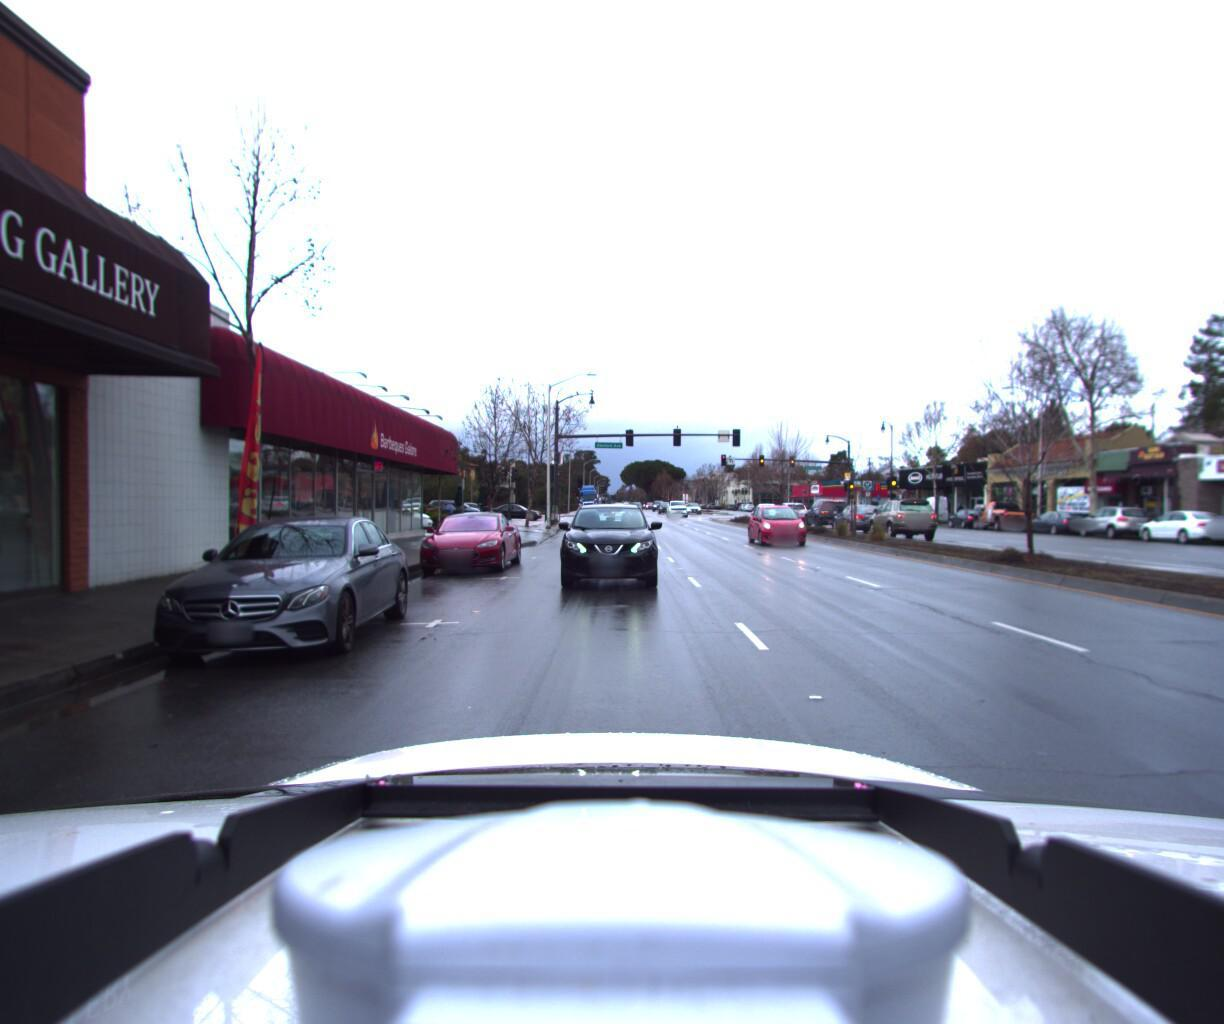car: (111, 513, 410, 680), (553, 503, 656, 594), (410, 509, 521, 580), (1128, 508, 1224, 547), (965, 480, 1037, 531), (747, 502, 823, 549), (862, 496, 942, 540), (1070, 504, 1155, 540), (339, 502, 432, 531), (1019, 510, 1091, 537), (827, 503, 889, 533), (800, 498, 851, 529), (770, 501, 809, 524), (748, 502, 782, 521), (664, 498, 688, 519)
